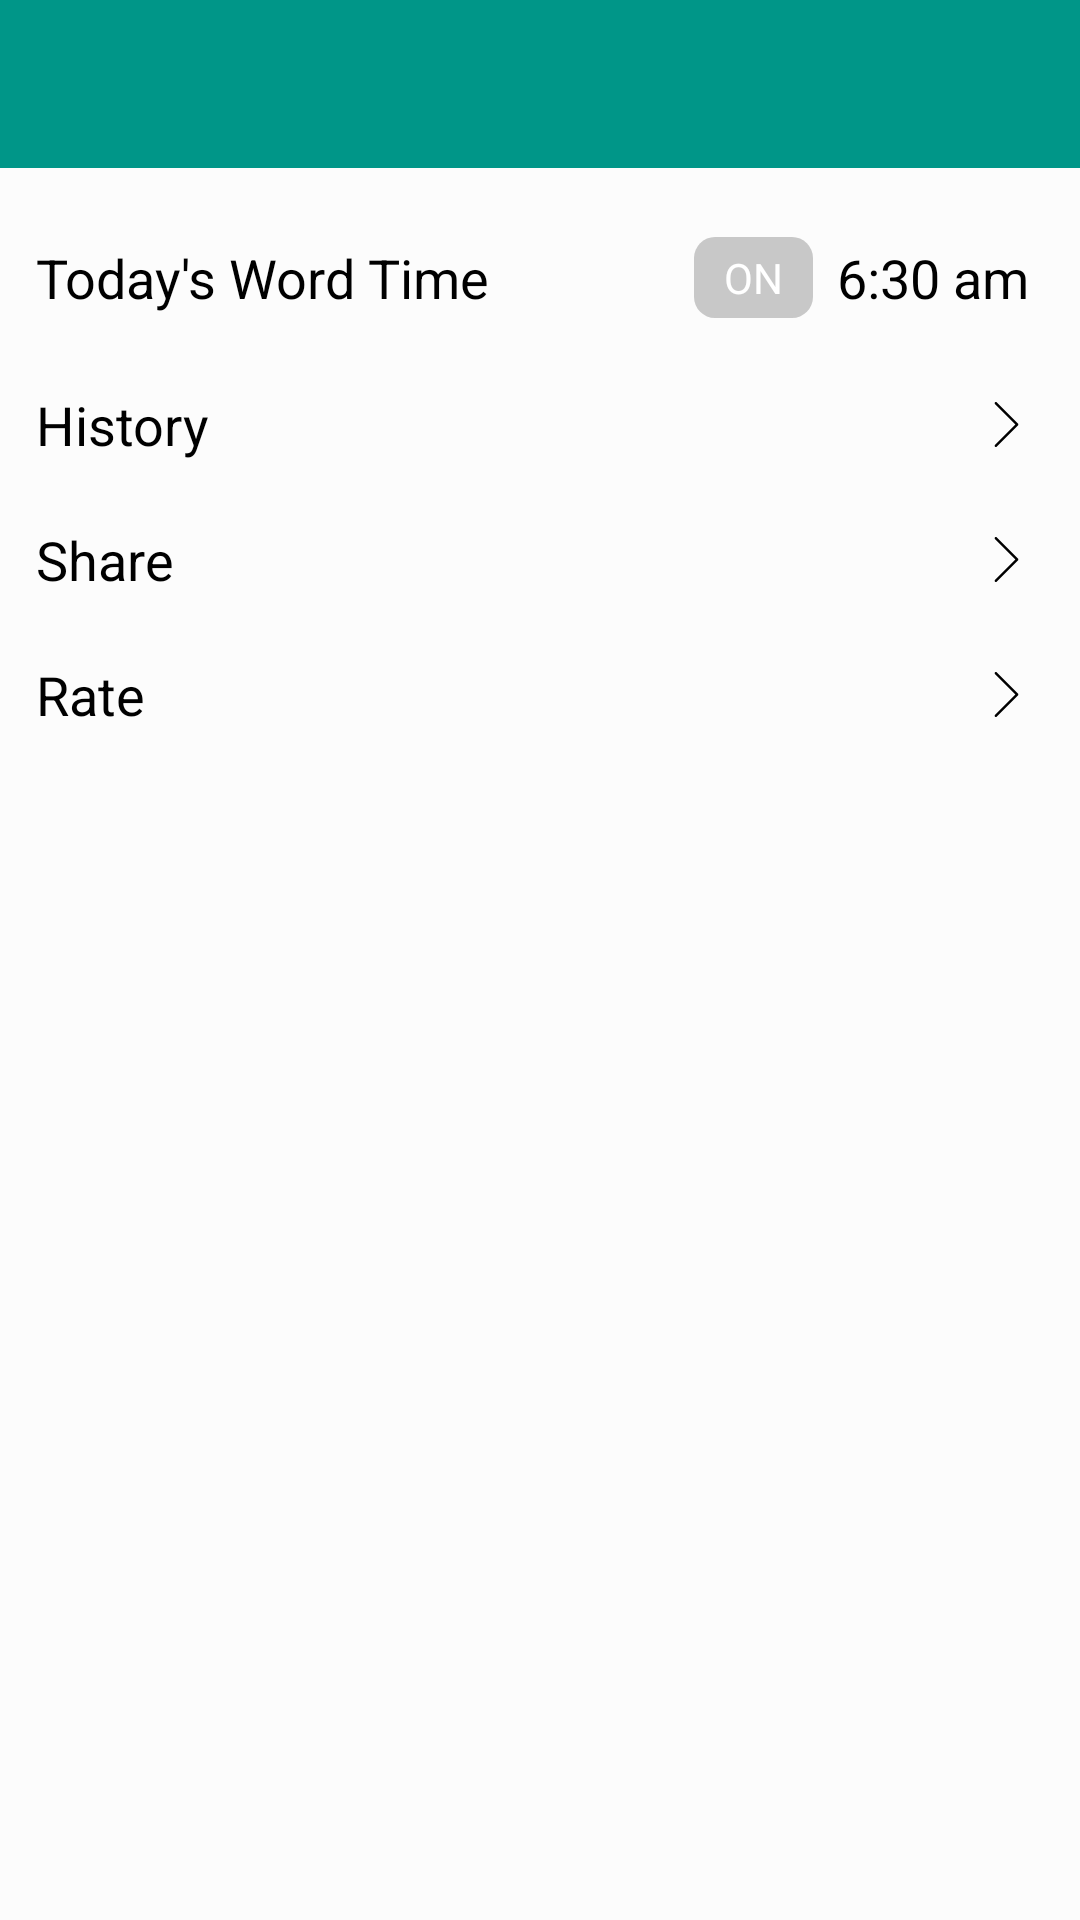

Where to tap for icons on this 1080×1920 app screen, as (x,y):
arrow next: (1006,424), (1006,559), (1006,694)
